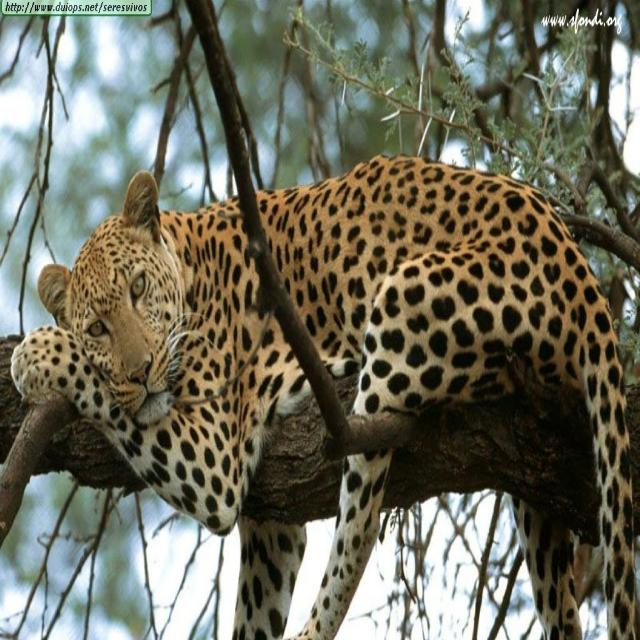Leopard: (11, 156, 630, 640)
